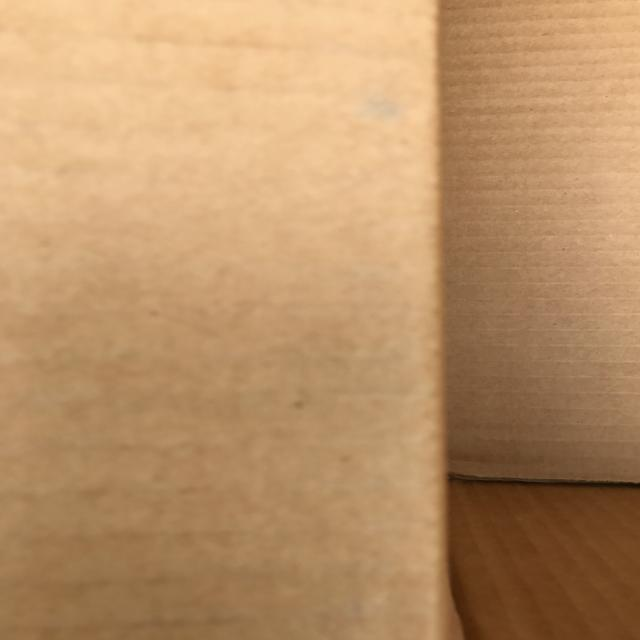cardboard: (437, 0, 640, 485)
